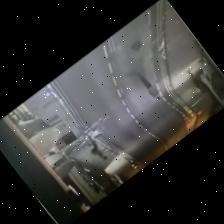person: (138, 73, 160, 98), (188, 70, 206, 92)
